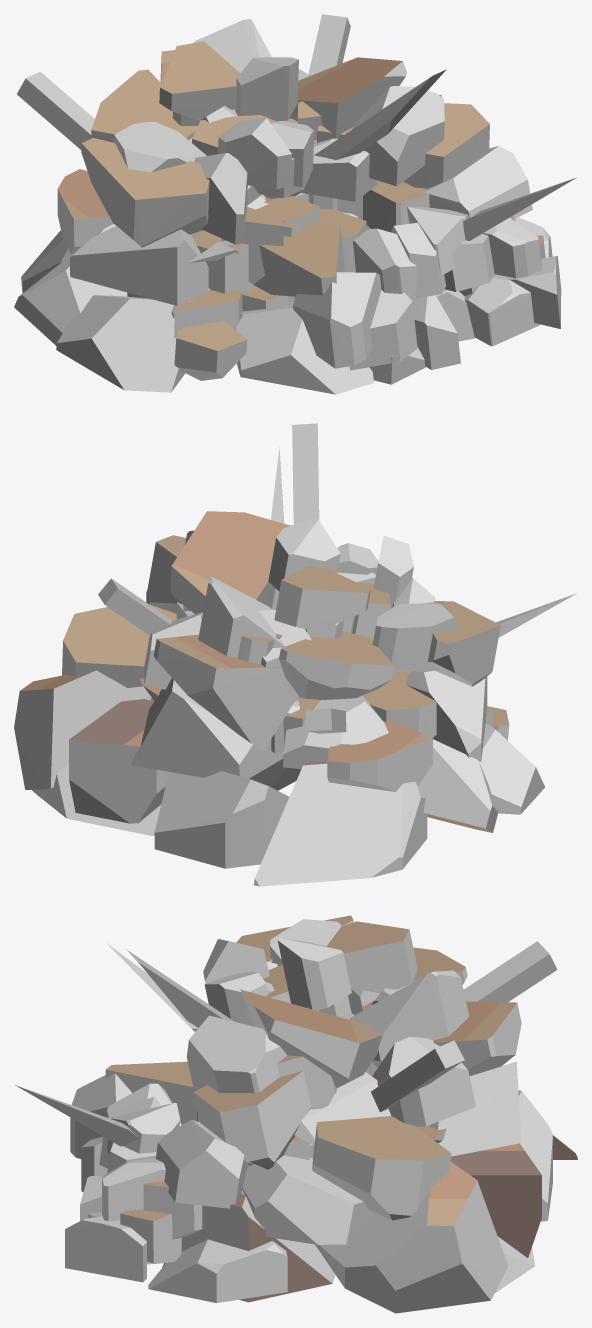
File: Obstacle_wood.fbx
3 views of the same model, one above another, from view 1: azimuth 30°, elevation 25°; view 2: azimuth 150°, elevation 25°; view 3: azimuth 270°, elevation 25° (orthographic). The views are drawn at different scales.
Parts seen in each view (by area): view 1: Obstacle_Wood; view 2: Obstacle_Wood; view 3: Obstacle_Wood.
Part boxes in pixels (box(x1,y1,x2,y2)): Obstacle_Wood: box(14, 14, 576, 394); Obstacle_Wood: box(14, 423, 576, 886); Obstacle_Wood: box(15, 915, 577, 1313).
Size of the model in its own units: 3.93 by 2.36 by 3.99.
